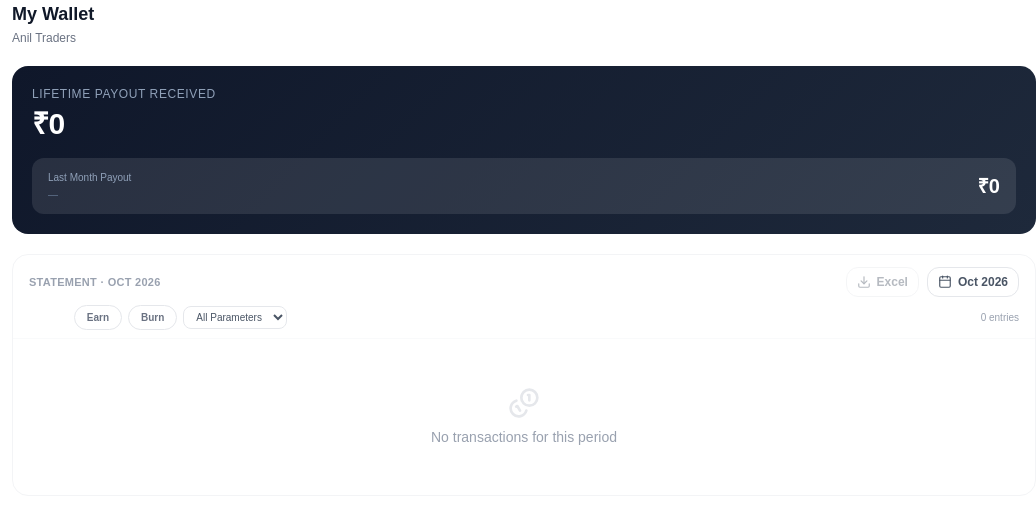
it: D — Wallet default period (regression: no hardcoded month) › D2: a partner with NO activity opens on the CURRENT month, empty, picker usable
Expected: the element with test id "statement-controls-row" is shown, x1=29 y1=267 x2=1019 y2=297
Expected: the text "No transactions for this period" is shown, x1=431 y1=427 x2=617 y2=447
Click the button with test id "period-picker-btn".
click(973, 282)  # box x1=927 y1=267 x2=1019 y2=297
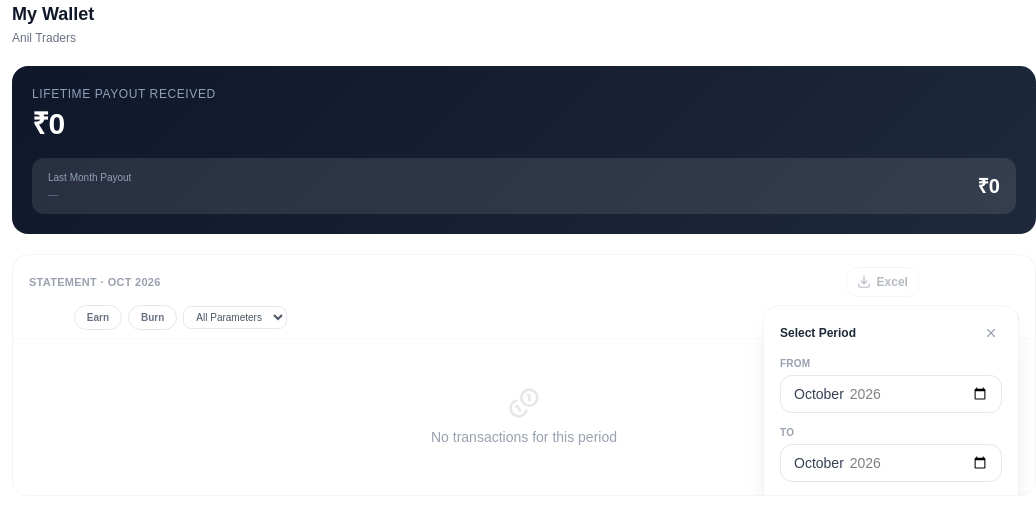
Now the number of fields is 2, box x1=780 y1=375 x2=1002 y2=413; x1=780 y1=444 x2=1002 y2=482
